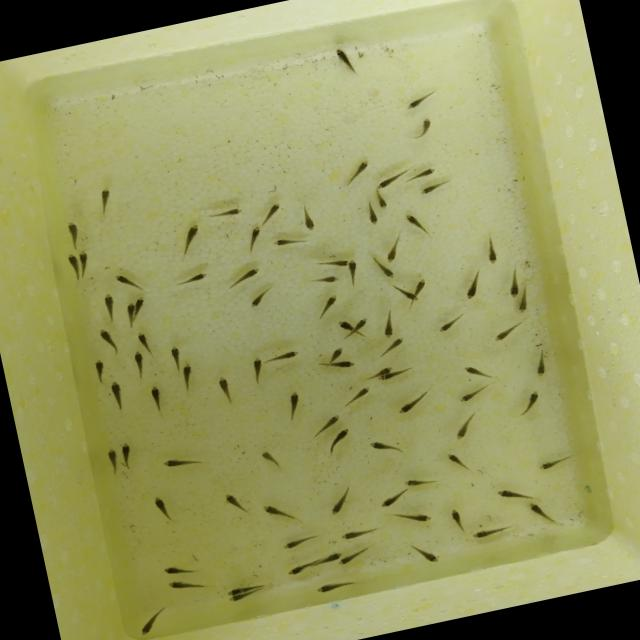fingerling: (317, 486, 358, 524), (326, 42, 366, 80), (513, 385, 549, 418), (340, 154, 374, 188), (157, 451, 202, 476), (438, 445, 476, 474), (389, 392, 431, 418), (534, 449, 576, 474), (391, 506, 434, 530), (308, 410, 346, 437), (322, 424, 358, 452), (338, 383, 376, 409), (402, 86, 442, 110), (147, 492, 177, 524), (163, 573, 204, 596), (260, 499, 294, 526), (206, 201, 247, 223), (408, 112, 438, 142), (370, 435, 404, 461), (458, 270, 486, 301), (530, 348, 558, 379), (404, 212, 431, 244), (296, 202, 322, 235), (372, 489, 412, 510), (136, 608, 166, 636), (528, 498, 558, 526), (462, 360, 496, 384), (356, 364, 401, 382), (256, 445, 286, 472), (214, 372, 237, 407), (243, 285, 275, 310), (226, 266, 262, 288), (221, 486, 247, 516), (411, 542, 442, 567), (92, 184, 118, 213), (131, 326, 157, 355), (452, 413, 478, 442), (336, 545, 373, 565), (374, 168, 409, 189), (337, 524, 380, 541), (270, 232, 308, 251), (180, 220, 204, 250), (318, 356, 358, 374), (398, 472, 434, 492), (314, 577, 356, 594), (106, 378, 128, 410), (493, 483, 528, 503), (378, 367, 416, 385), (114, 270, 142, 294), (178, 360, 200, 390), (284, 388, 306, 418), (117, 441, 138, 472), (313, 291, 339, 316), (380, 237, 404, 264), (374, 335, 406, 355), (488, 324, 520, 344), (480, 240, 504, 266), (442, 506, 468, 530), (282, 532, 313, 552), (502, 270, 524, 298), (164, 560, 192, 582), (271, 346, 305, 364), (97, 325, 118, 354), (471, 524, 509, 540), (145, 384, 169, 409), (174, 270, 211, 286), (64, 218, 85, 246), (416, 178, 448, 196), (458, 384, 490, 402), (376, 260, 402, 282), (431, 316, 464, 333), (104, 445, 124, 473), (393, 287, 419, 308), (228, 588, 262, 604), (76, 248, 94, 278), (244, 223, 264, 250), (168, 341, 188, 368), (247, 355, 267, 382), (224, 582, 262, 596), (100, 292, 119, 319), (410, 163, 444, 178), (282, 561, 316, 576), (61, 253, 81, 278), (380, 311, 400, 336), (262, 200, 288, 219), (313, 272, 342, 288), (362, 202, 381, 226), (92, 357, 108, 384), (346, 258, 361, 286), (318, 548, 347, 562), (131, 349, 147, 374), (373, 190, 391, 212), (132, 296, 150, 317), (325, 344, 345, 362), (350, 318, 375, 332), (326, 256, 350, 268), (514, 296, 532, 312), (335, 317, 353, 333), (412, 276, 427, 292), (126, 302, 136, 324)
